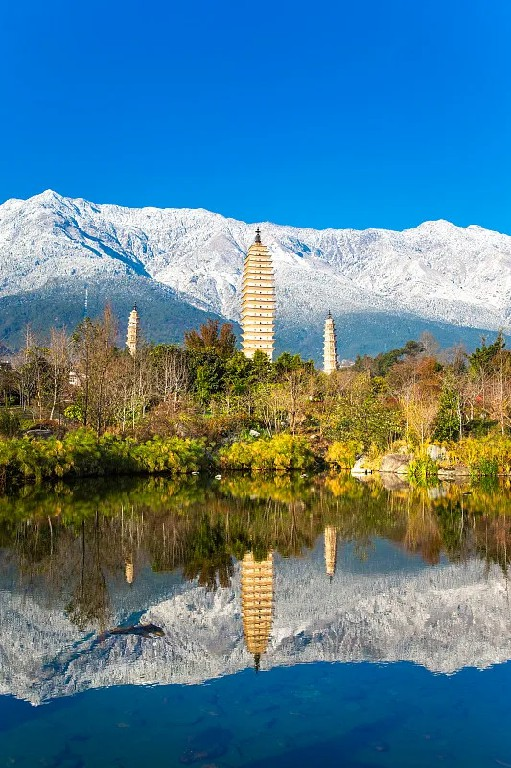ThreePagoda: (239, 227, 275, 362)
